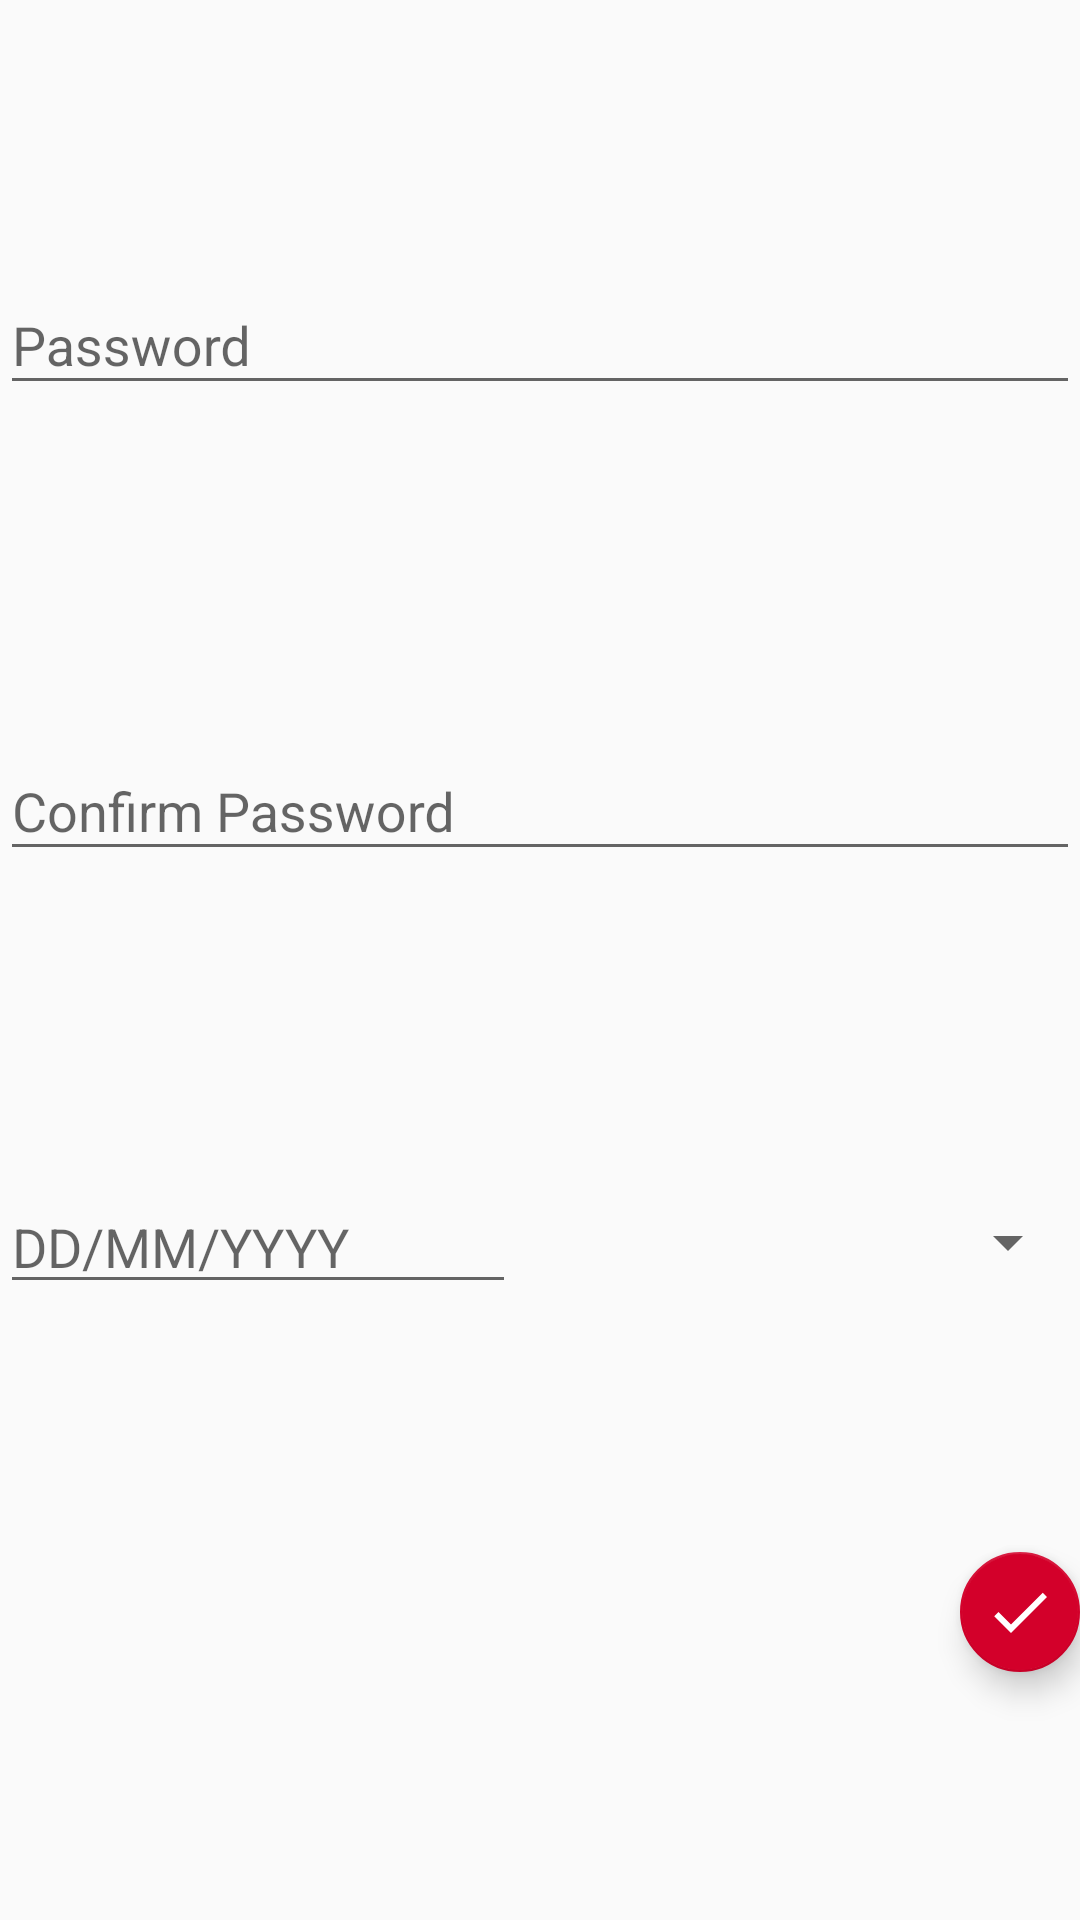

Named icons in this screenshot (1080x1920) and their bounding boxes, region(x1, y1, x2, y2):
tick: region(960, 1552, 1080, 1672)
